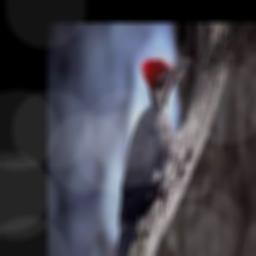Woodpecker: (116, 56, 191, 256)
